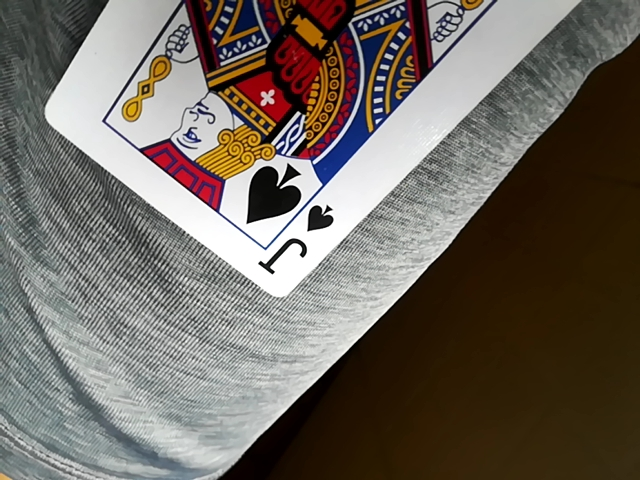ht j: (54, 2, 623, 301)
